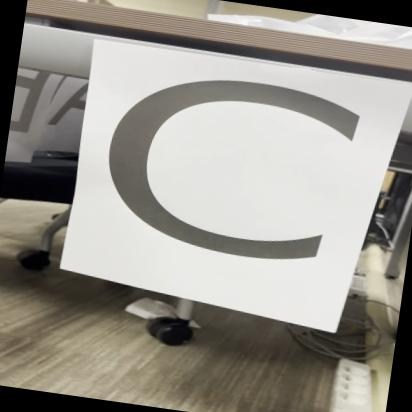seat: (68, 38, 388, 323)
